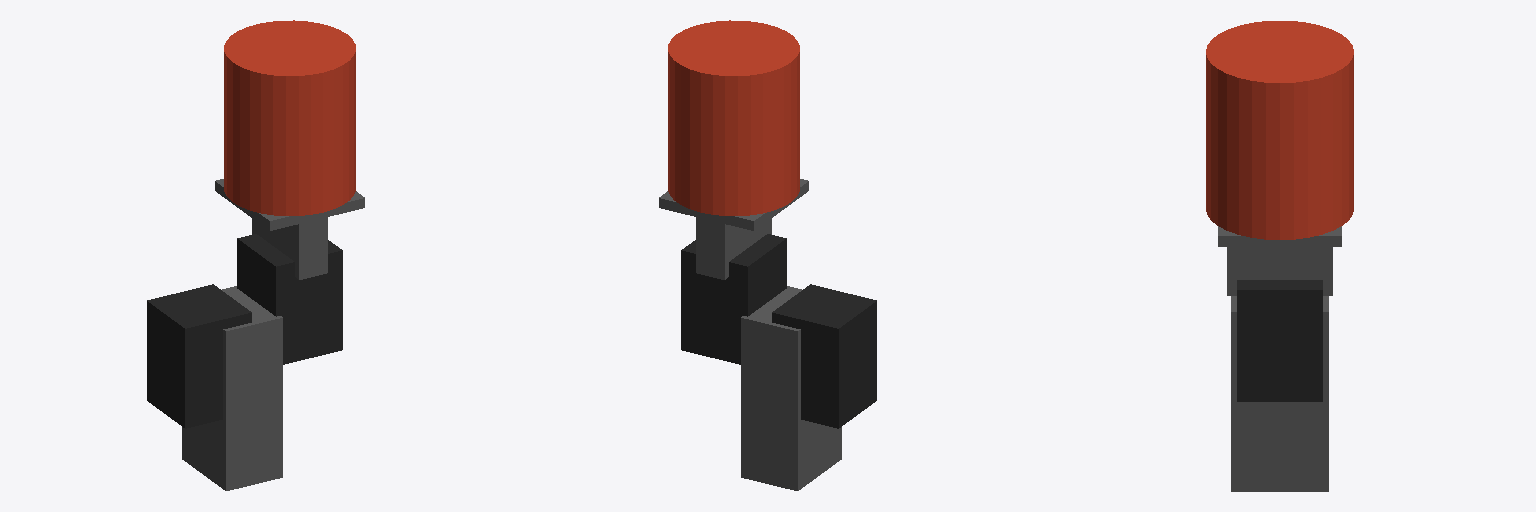
The robot description file, URDF, robot "tedusar_laser_alignment":
<?xml version="1.0"?>
<robot name="tedusar_laser_alignment">
    
    <link name="la_base_link" >
        <visual>
            <geometry>
                <box size="0.03 0.04 0.08"/>
            </geometry>
            <material name="light_gray">
                <color rgba="0.4 0.4 0.4 1.0"/>
            </material>
            <origin rpy="0 0 0" xyz="0 0 0.04"/>
        </visual>
        <collision>
            <geometry>
                <box size="0.03 0.04 0.08"/>
            </geometry>
            <material name="light_gray">
                <color rgba="0.4 0.4 0.4 1.0"/>
            </material>
            <origin rpy="0 0 0" xyz="0 0 0.04"/>
        </collision>
	<inertial>
		<mass value="0.3"/> <!-- kg -->
		<inertia ixx="0.01" ixy="0.0" ixz="0.0" iyy="0.02" iyz="0.0" izz="0.01"/>
      		<origin rpy="0 0 0" xyz="0 0 0"/> <!--Center of mass -->
	</inertial>
    </link>
    
    <link name="la_servo1" >
        <visual>
            <geometry>
                <box size="0.035 0.035 0.05"/>
            </geometry>
            <material name="gray">
                <color rgba="0.2 0.2 0.2 1.0"/>
            </material>
            <origin rpy="0 0 0" xyz="-0.0175 0 -0.01"/>
        </visual>
        <collision>
            <geometry>
                <box size="0.035 0.035 0.05"/>
            </geometry>
            <material name="gray">
                <color rgba="0.2 0.2 0.2 1.0"/>
            </material>
            <origin rpy="0 0 0" xyz="-0.0175 0 -0.01"/>
        </collision>
    <inertial>
      <mass value="0.25"/> <!-- kg -->
      <inertia ixx="0.01" ixy="0.0" ixz="0.0" iyy="0.02" iyz="0.0" izz="0.01"/>
      <origin rpy="0 0 0" xyz="0 0 0"/> <!--Center of mass -->
    </inertial>
    </link>
    
    <link name="la_servo1_roll" />
    <link name="la_servo2" >
        <visual>
            <geometry>
                <box size="0.035 0.035 0.05"/>
            </geometry>
            <material name="gray"/>
            <origin rpy="0 0 0" xyz="0 0 -0.02"/>
        </visual>
        <collision>
            <geometry>
                <box size="0.035 0.035 0.05"/>
            </geometry>
            <material name="gray"/>
            <origin rpy="0 0 0" xyz="0 0 -0.02"/>
        </collision>
    <inertial>
      <mass value="0.25"/> <!-- kg -->
      <inertia ixx="0.01" ixy="0.0" ixz="0.0" iyy="0.02" iyz="0.0" izz="0.01"/>
      <origin rpy="0 0 0" xyz="0 0 0"/> <!--Center of mass -->
    </inertial>
    </link>
    
    <link name="la_servo2_pitch" >
        <visual>
            <geometry>
                <box size="0.043 0.015 0.045"/>
            </geometry>
            <material name="light_gray"/>
            <origin rpy="0 0 0" xyz="0 0 0.02"/>
        </visual>
        <collision>
            <geometry>
                <box size="0.043 0.015 0.045"/>
            </geometry>
            <material name="light_gray"/>
            <origin rpy="0 0 0" xyz="0 0 0.02"/>
        </collision>
    <inertial>
      <mass value="0.25"/> <!-- kg -->
      <inertia ixx="0.01" ixy="0.0" ixz="0.0" iyy="0.02" iyz="0.0" izz="0.01"/>
      <origin rpy="0 0 0" xyz="0 0 0"/> <!--Center of mass -->
    </inertial>
    </link>
    
    <link name="la_platform" >
        <visual>
            <geometry>
                <box size="0.050 0.050 0.005"/>
            </geometry>
            <material name="light_gray"/>
            <origin rpy="0 0 0" xyz="0 0 0.01"/>
        </visual>
        <collision>
            <geometry>
                <box size="0.050 0.050 0.005"/>
            </geometry>
            <material name="light_gray"/>
            <origin rpy="0 0 0" xyz="0 0 0.01"/>
        </collision>
    <inertial>
      <mass value="0.25"/> <!-- kg -->
      <inertia ixx="0.01" ixy="0.0" ixz="0.0" iyy="0.02" iyz="0.0" izz="0.01"/>
      <origin rpy="0 0 0" xyz="0 0 0"/> <!--Center of mass -->
    </inertial>
    </link>
    
    <link name="la_laser" >
        <visual>
            <geometry>
                <cylinder length="0.07" radius="0.03"/>
            </geometry>
            <material name="red">
                <color rgba="0.8 0.3 0.2 1.0"/>
            </material>
            <origin rpy="0 0 0" xyz="0 0 0.018"/>
        </visual>
        <collision>
            <geometry>
                <cylinder length="0.07" radius="0.03"/>
            </geometry>
            <material name="red">
                <color rgba="0.8 0.3 0.2 1.0"/>
            </material>
            <origin rpy="0 0 0" xyz="0 0 0.018"/>
        </collision>
    <inertial>
      <mass value="0.4"/> <!-- kg -->
      <inertia ixx="0.01" ixy="0.0" ixz="0.0" iyy="0.02" iyz="0.0" izz="0.01"/>
      <origin rpy="0 0 0" xyz="0 0 0"/> <!--Center of mass -->
    </inertial>
    </link>
    
    <joint name="la_base_to_servo1" type="fixed">
        <parent link="la_base_link"/>
        <child link="la_servo1"/>
        <origin xyz="0 0 0.07" rpy="0 0 0"/>
    </joint>
    
    <joint name="la_roll_joint" type="continuous">
        <parent link="la_servo1"/>
        <child link="la_servo1_roll"/>
        <origin xyz="0 0 0" rpy="0 0 0"/>
    </joint>
    
    <joint name="la_servo1_roll_to_servo2" type="fixed">
        <parent link="la_servo1_roll"/>
        <child link="la_servo2"/>
        <origin xyz="0.03 0 0.03" rpy="0 0 -1.570796"/>
    </joint>
    
    <joint name="la_pitch_joint" type="continuous">
        <parent link="la_servo2"/>
        <child link="la_servo2_pitch"/>
        <origin xyz="0 0 0" rpy="0 0 0"/>
    </joint>
    
    <joint name="la_servo2_pitch_to_platform" type="fixed">
        <parent link="la_servo2_pitch"/>
        <child link="la_platform"/>
        <origin xyz="0 0 0.02" rpy="0 0 1.570796"/>
    </joint>
    
    <joint name="la_platform_to_laser" type="fixed">
        <parent link="la_platform"/>
        <child link="la_laser"/>
        <origin xyz="0 0 0.03" rpy="0 0 0"/>
    </joint>
    
</robot>

--- Render facts (derived) ---
3 views of the same robot in one strip: view 1: azimuth 30°, elevation 25°; view 2: azimuth 150°, elevation 25°; view 3: azimuth 270°, elevation 25° (orthographic).
Robot: tedusar_laser_alignment — 7 links, 6 joints (2 continuous, 4 fixed); root link la_base_link; default pose: all joints at 0.
Visible links, largest first — view 1: la_laser, la_base_link, la_servo1, la_servo2, la_servo2_pitch, la_platform; view 2: la_laser, la_base_link, la_servo1, la_servo2, la_servo2_pitch, la_platform; view 3: la_laser, la_servo2, la_base_link, la_servo2_pitch, la_platform.
Link boxes in pixels (<box>): la_laser: <box>224,20,355,215</box>; la_base_link: <box>182,286,282,490</box>; la_servo1: <box>147,284,251,428</box>; la_servo2: <box>237,234,342,364</box>; la_servo2_pitch: <box>252,217,327,279</box>; la_platform: <box>215,179,364,230</box>; la_laser: <box>668,20,799,215</box>; la_base_link: <box>741,286,841,490</box>; la_servo1: <box>772,284,876,428</box>; la_servo2: <box>681,234,786,364</box>; la_servo2_pitch: <box>696,217,771,279</box>; la_platform: <box>659,179,808,230</box>; la_laser: <box>1206,21,1353,239</box>; la_servo2: <box>1237,280,1322,401</box>; la_base_link: <box>1231,296,1328,491</box>; la_servo2_pitch: <box>1227,247,1332,295</box>; la_platform: <box>1218,226,1341,246</box>.
Bounding box of the posed robot: 0.095 × 0.06 × 0.203 m (x, y, z).
Geometry: primitives only (box / cylinder / sphere), no mesh files.
